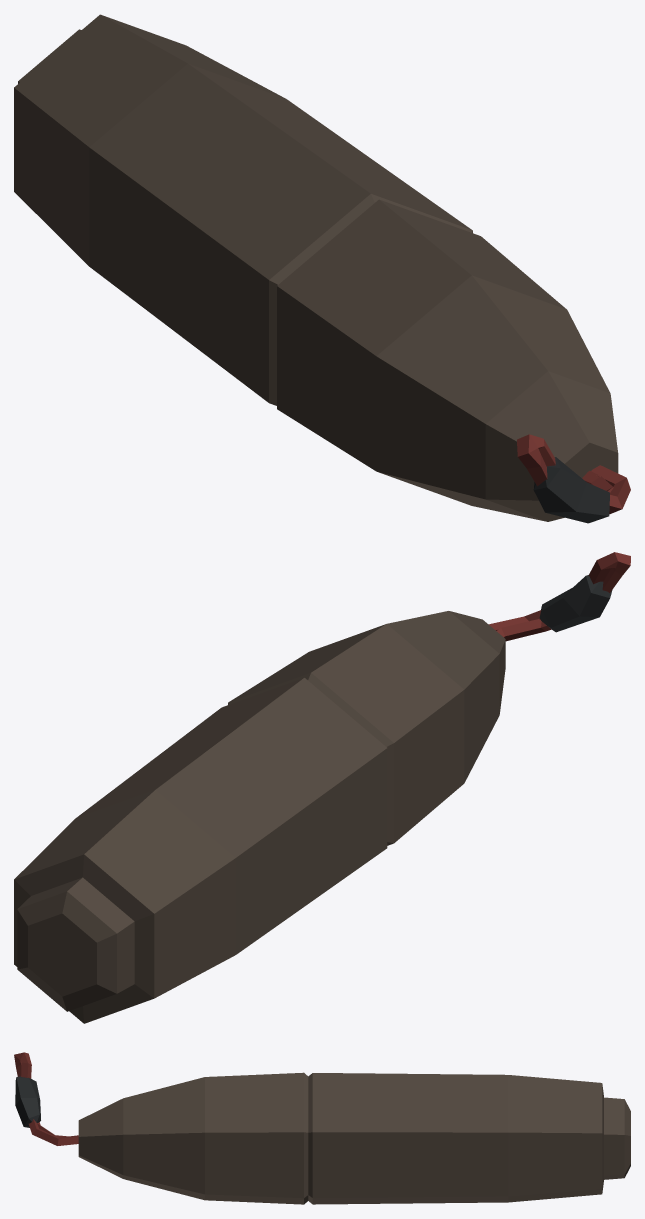
The model's file is SM_Prop_IED_01.glb.
3 renders of one model, top to bottom at view 1: azimuth 30°, elevation 25°; view 2: azimuth 150°, elevation 25°; view 3: azimuth 270°, elevation 25°, orthographic. The views are drawn at different scales.
Visible parts, largest first — view 1: SM_Prop_IED_01; view 2: SM_Prop_IED_01; view 3: SM_Prop_IED_01.
Boxes of the visible parts, x1,y1,x2,y2 form: SM_Prop_IED_01: (14, 14, 630, 523); SM_Prop_IED_01: (14, 552, 630, 1023); SM_Prop_IED_01: (14, 1052, 630, 1204).
Bounding box in the file's own units: 0.1623 × 0.167 × 0.7082.
1 material, 1 textured.
